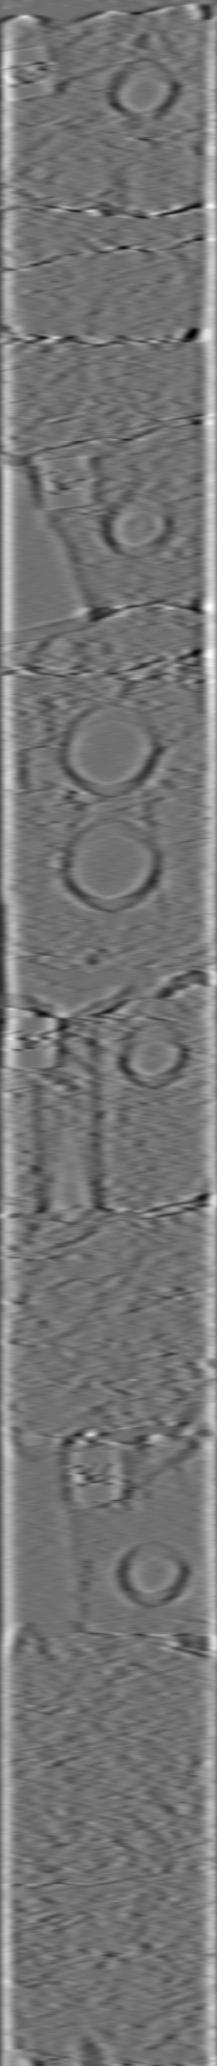hplug: (110, 1534, 192, 1611), (96, 488, 178, 563), (114, 1019, 189, 1091), (104, 53, 183, 119)
scal: (55, 698, 164, 804), (55, 816, 166, 918)
vplug: (4, 459, 93, 650), (14, 1430, 92, 1642), (32, 1022, 109, 1215)
